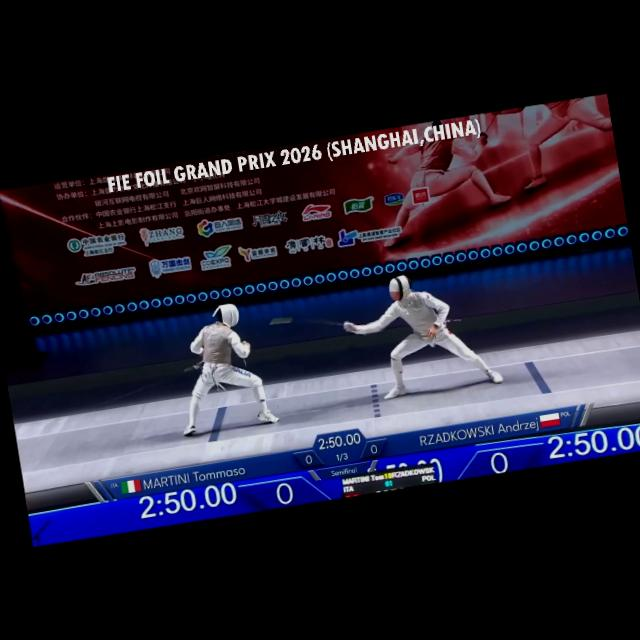blade: (268, 304, 355, 342)
